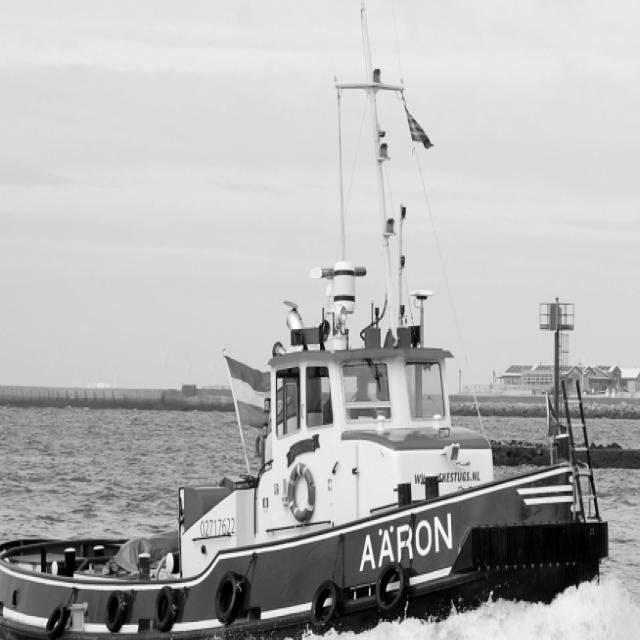tugboat: (1, 256, 620, 640)
